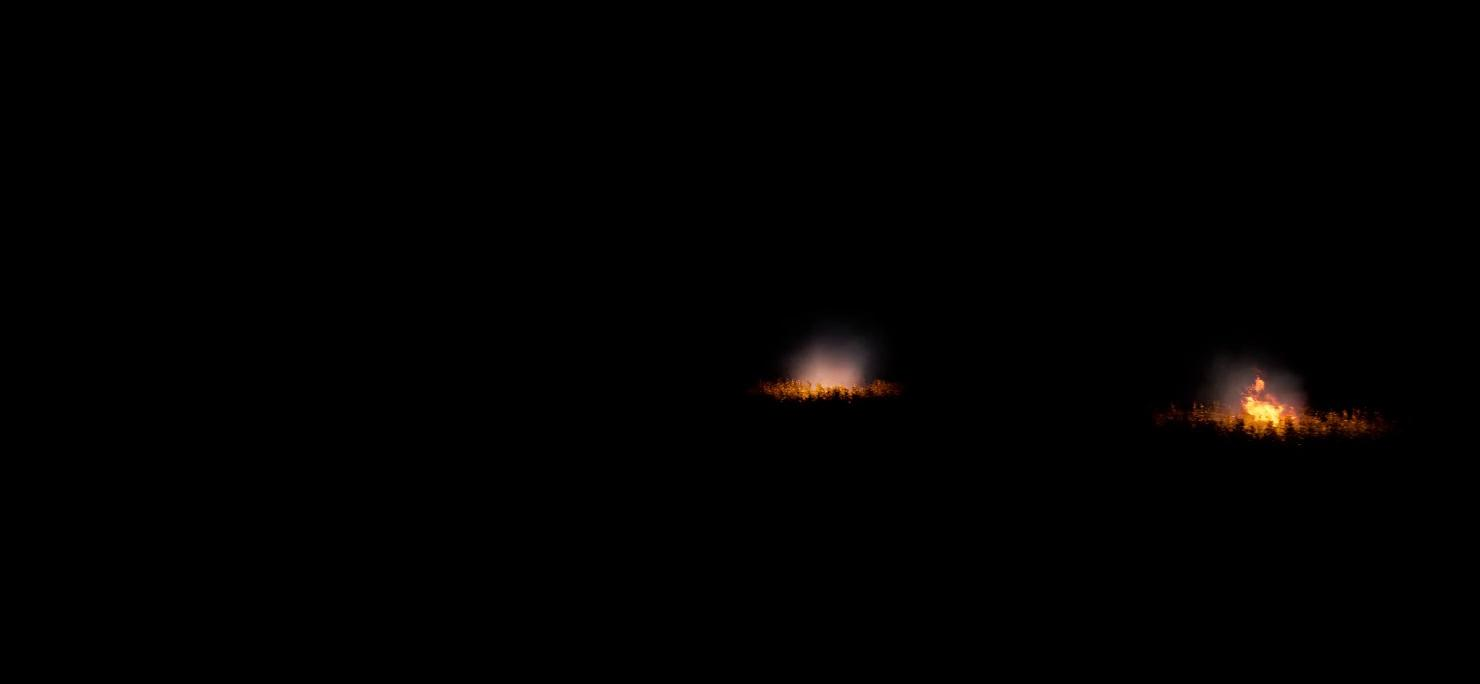fire: (1237, 373, 1295, 433)
smoke: (1219, 348, 1306, 421), (789, 339, 868, 385)
